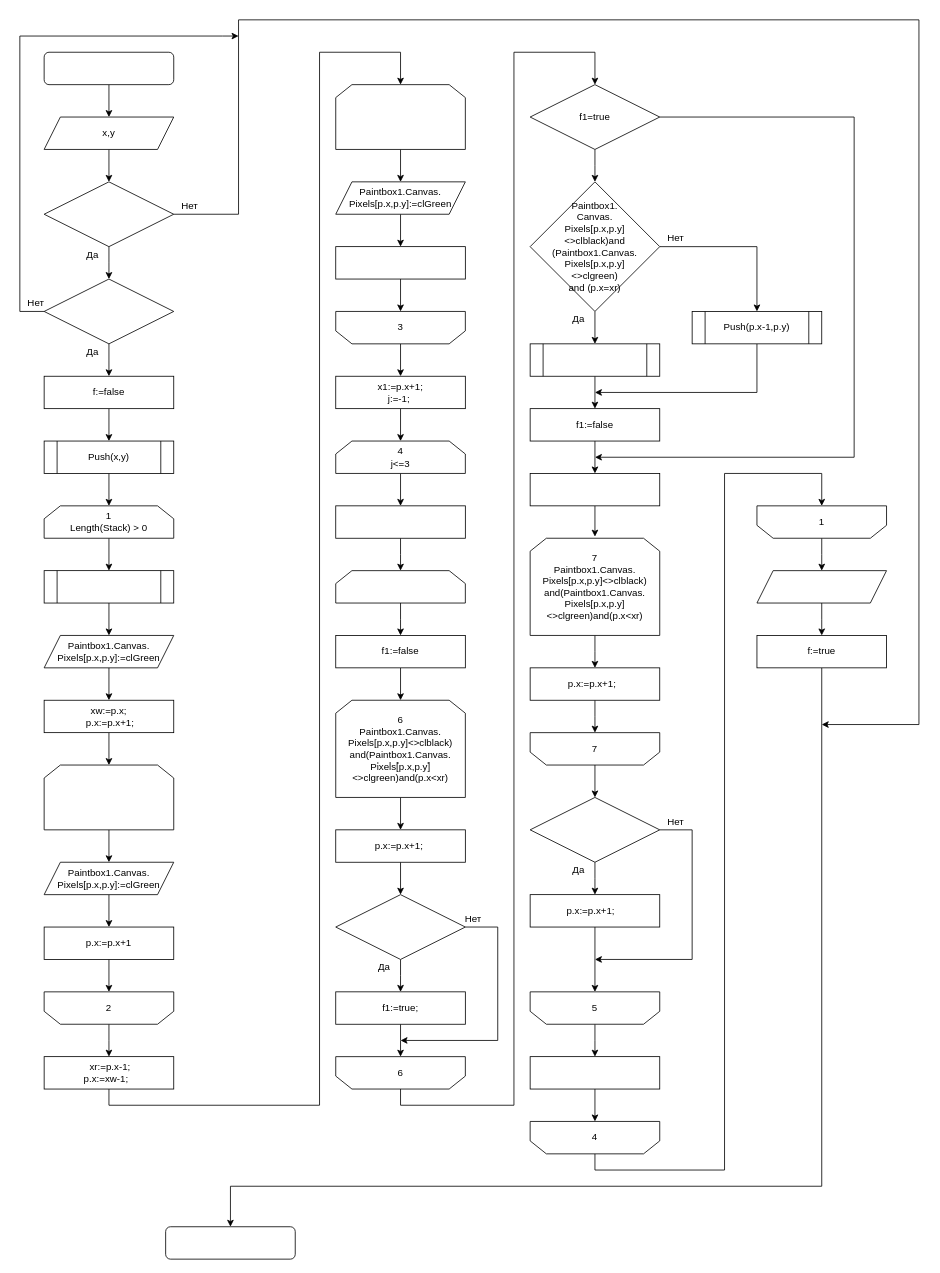
This 940x1273 diagram has some shape labels left out. The box of each missing label's shape, as (x1, y1, x2, y2) in pixels:
2 Paintbox1. Canvas.Pixels[p.x,p.y]<>clBlack: (43, 764, 174, 830)
3 Paintbox1. Canvas.Pixels[p.x,p.y]<>clBlack: (335, 84, 465, 149)
5 p.x<=xr: (335, 570, 465, 603)
f1=false: (335, 894, 465, 959)
f=true: (43, 278, 174, 344)
j:=j+3: (529, 1056, 660, 1089)
p.x:=p.x-1: (335, 246, 465, 279)
p.x:=x1; p.y:=p.y+j;: (335, 505, 465, 538)
p.x=xb: (529, 797, 660, 862)
p:=Pop: (43, 570, 174, 603)
Paintbox1.Canvas. Pixels[x,y]<>clblack: (43, 181, 174, 247)
Push(p.x,p.y): (529, 343, 660, 376)
showmessage ('Закраска завершена'): (756, 570, 887, 603)
xb:=p.x;: (529, 473, 660, 506)
Конец: (165, 1226, 295, 1259)
Начало: (43, 51, 174, 85)
